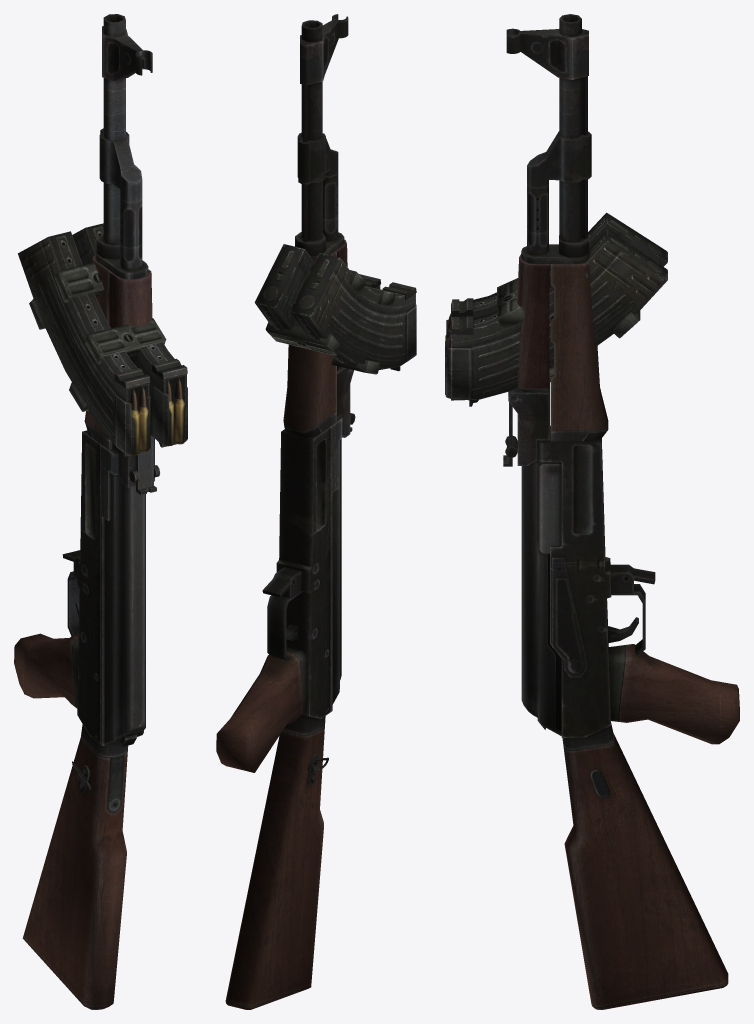
The model's file is AK-47_DualMag.obj.
The picture shows the model from 3 angles, left to right: view 1: azimuth 30°, elevation 25°; view 2: azimuth 150°, elevation 25°; view 3: azimuth 270°, elevation 25°; orthographic projection. The views are drawn at different scales.
Visible parts, largest first — view 1: Model_AK47, MergedGeo; view 2: Model_AK47, MergedGeo; view 3: Model_AK47, MergedGeo.
Boxes of the visible parts, x1,y1,x2,y2 form: Model_AK47: (14, 14, 159, 1009); MergedGeo: (18, 223, 187, 456); Model_AK47: (216, 14, 355, 1009); MergedGeo: (254, 244, 416, 374); Model_AK47: (503, 14, 739, 1009); MergedGeo: (445, 212, 667, 406).
Bounding box in the file's own units: 0.0646 × 0.8742 × 0.2365.
Materials: 2 (2 with a texture image).
